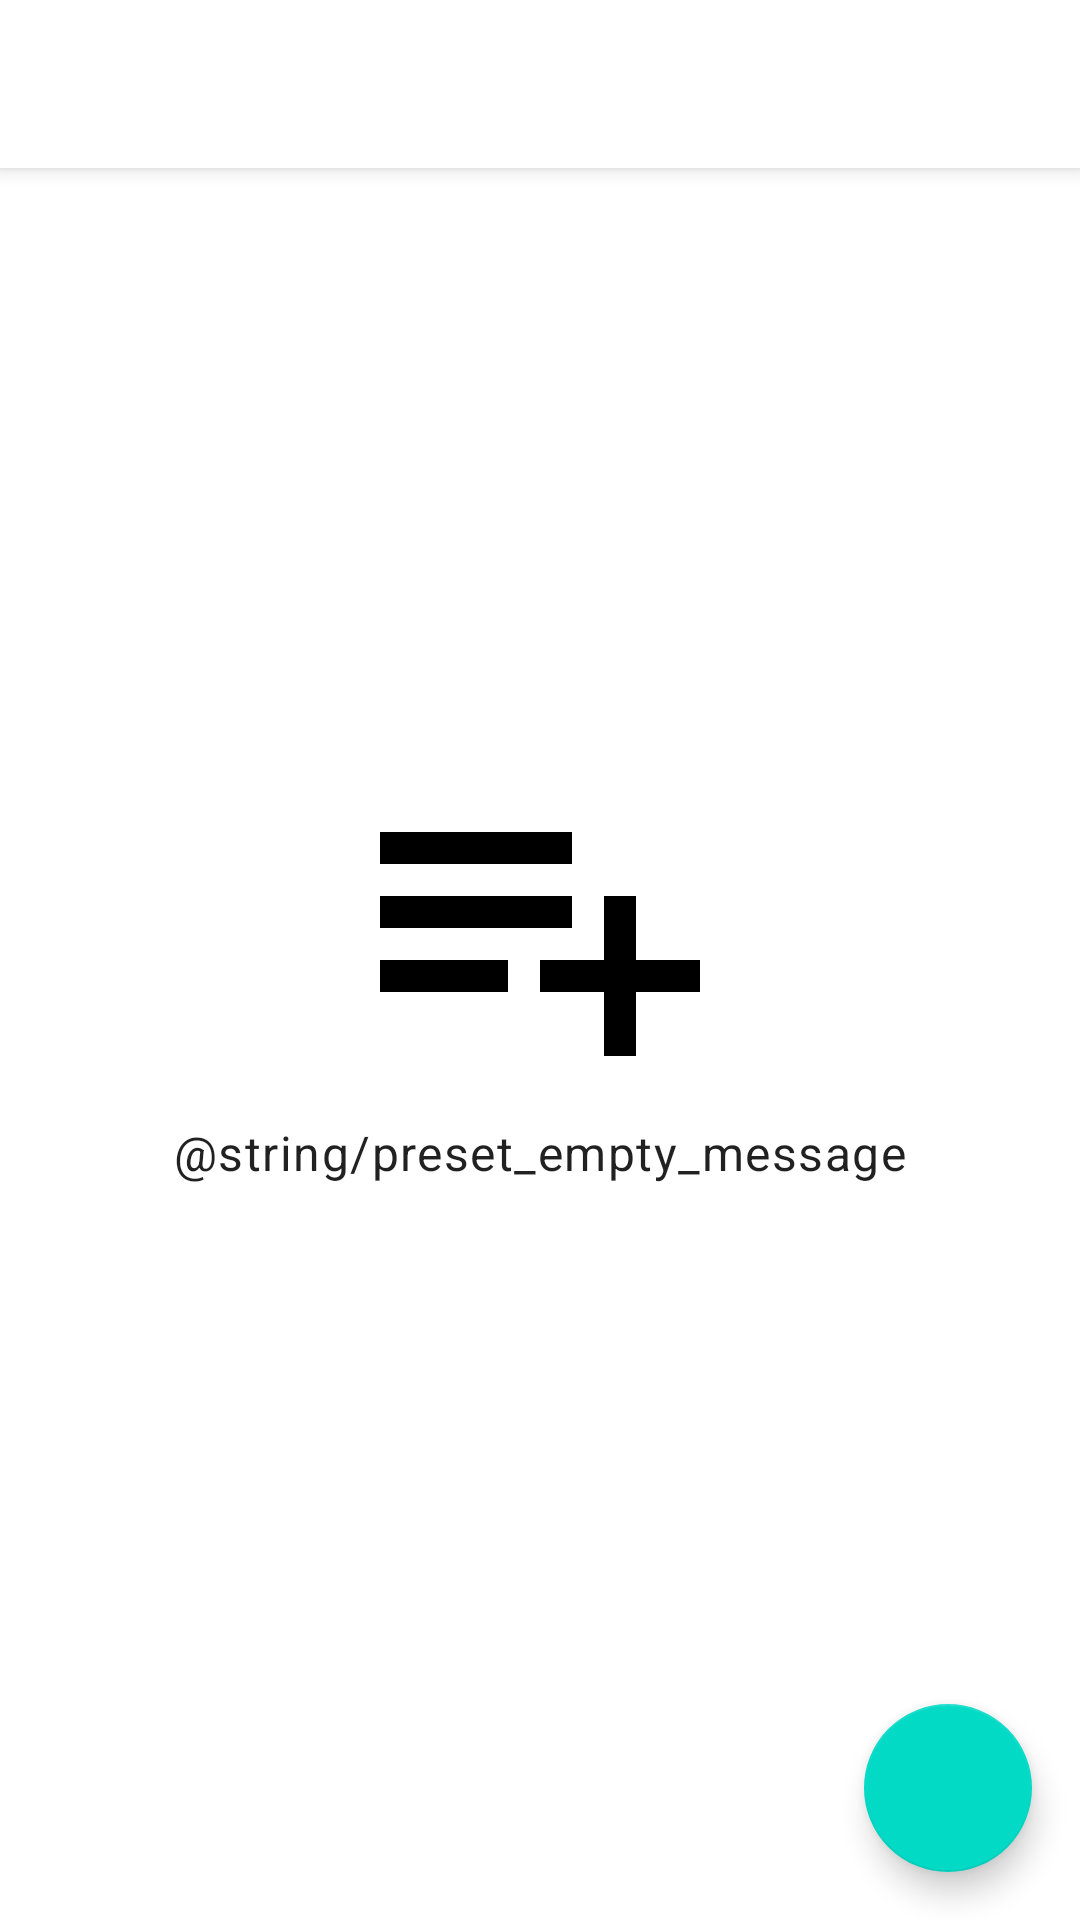

Named icons in this screenshot (1080*1920) and their centers, (x,y):
playlist add: (540,944)
